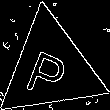P_N: (25, 37, 76, 98)
